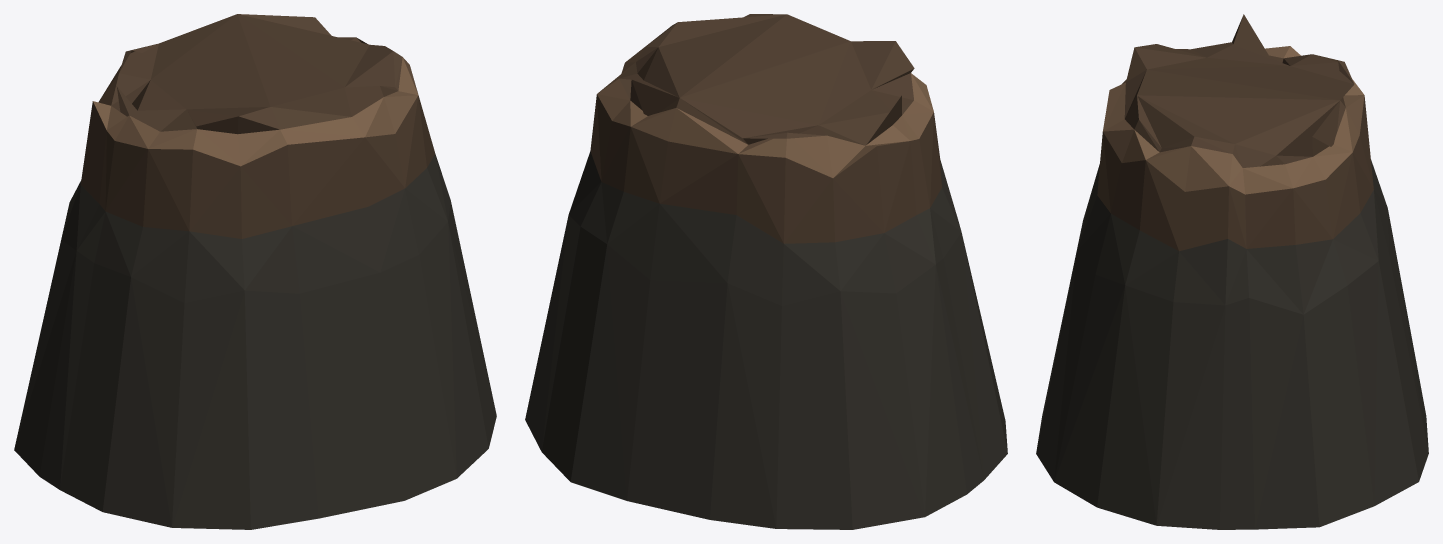
The model's file is pedra-lago-2.glb.
3 renders of one model, left to right at view 1: azimuth 30°, elevation 25°; view 2: azimuth 150°, elevation 25°; view 3: azimuth 270°, elevation 25°, orthographic. The views are drawn at different scales.
Visible parts, largest first — view 1: pedra-lago-2; view 2: pedra-lago-2; view 3: pedra-lago-2.
Part boxes in pixels (bbox=[...]): pedra-lago-2: bbox=[14, 14, 496, 529]; pedra-lago-2: bbox=[525, 14, 1007, 529]; pedra-lago-2: bbox=[1036, 14, 1428, 529].
Size of the model in its own units: 48.08 by 41.96 by 41.77.
